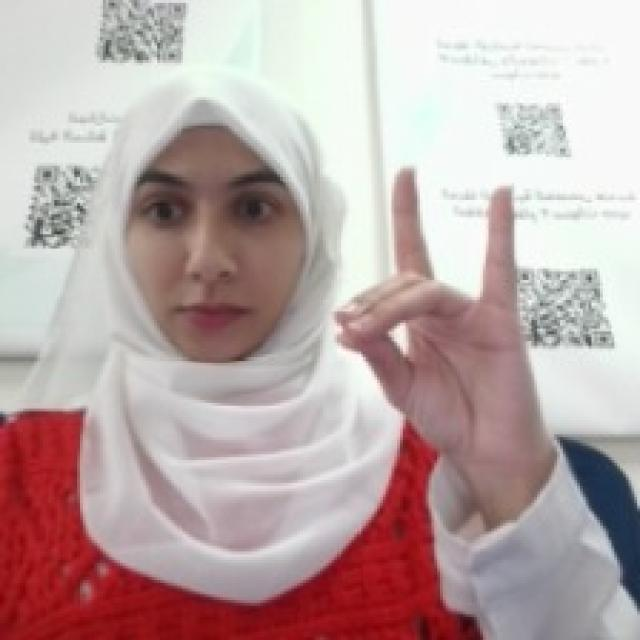Dog: (328, 160, 546, 463)
